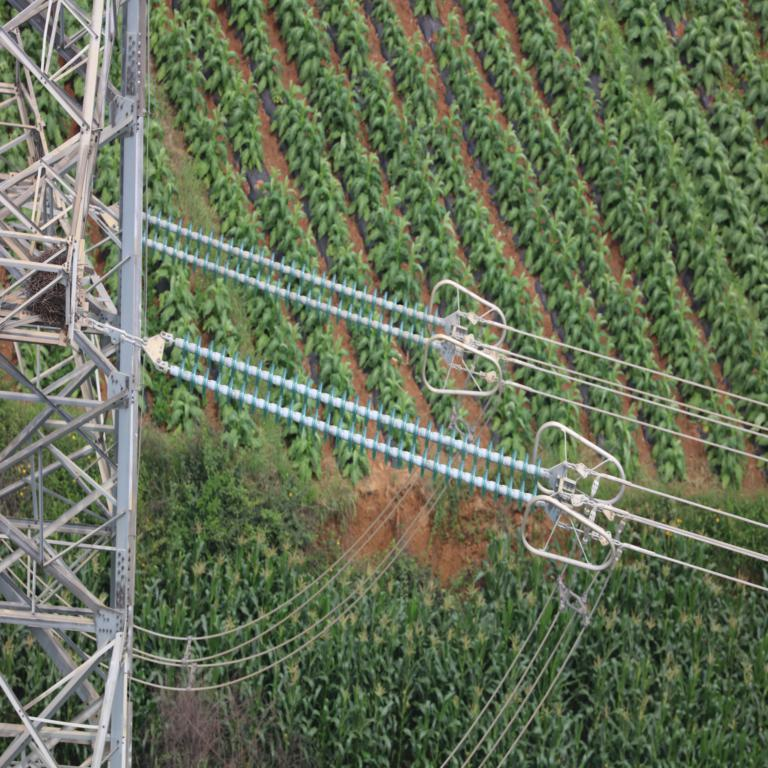nest: (27, 258, 78, 323)
